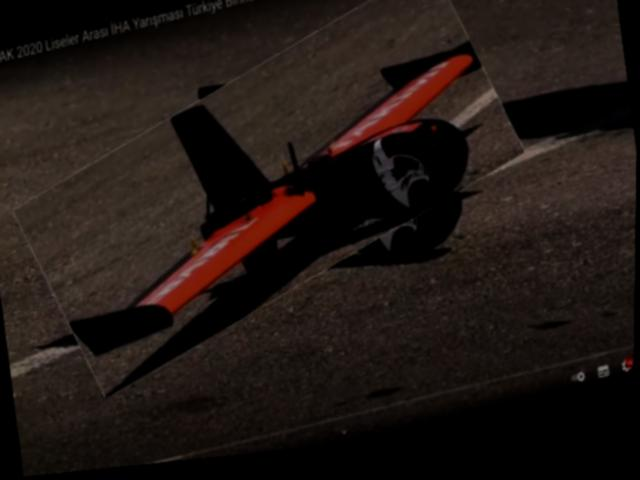insansiz-hava-araci: (8, 0, 533, 385)
